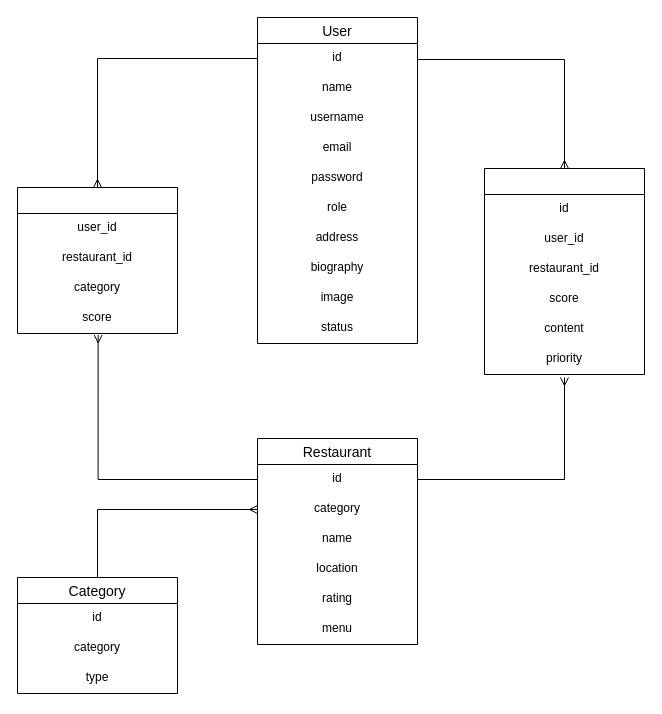
Some shapes in this 662 by 714 pixel diagram are drawn without their labels. Here are the shapes that lost their labels. From the top down, the box of each, then its label:
(16, 186, 178, 334): List
(484, 168, 644, 374): Review
